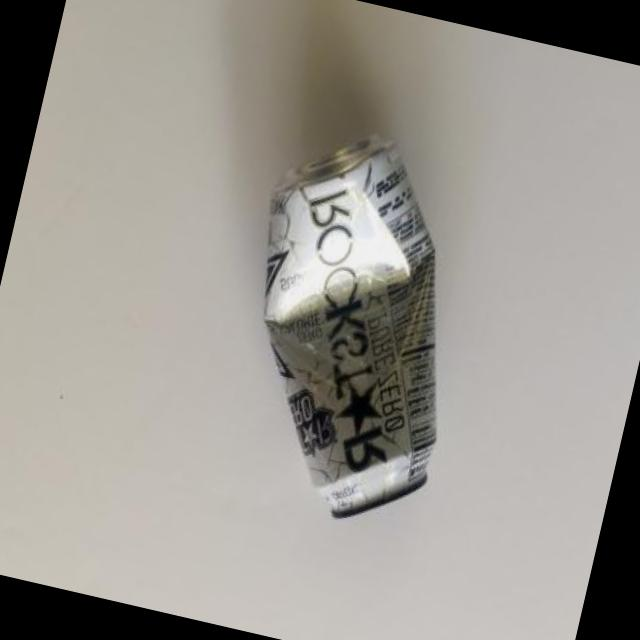kim_loai: (263, 137, 435, 512)
